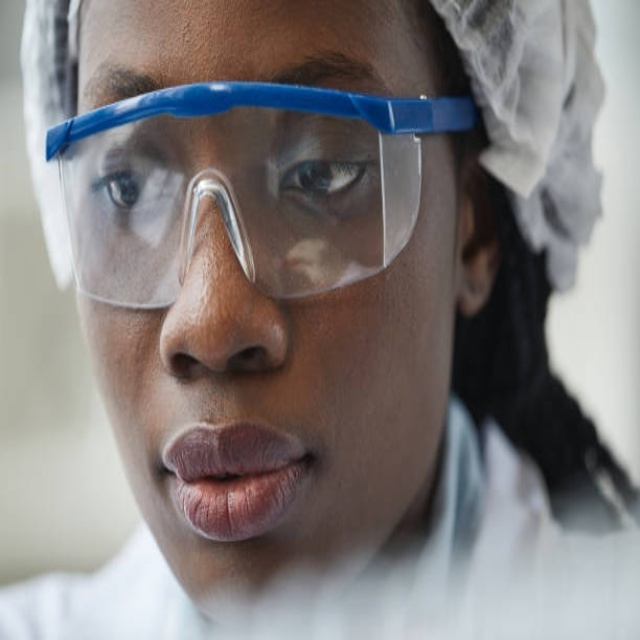Gafas: (47, 87, 456, 309)
Sin_mascara: (141, 376, 348, 595)
